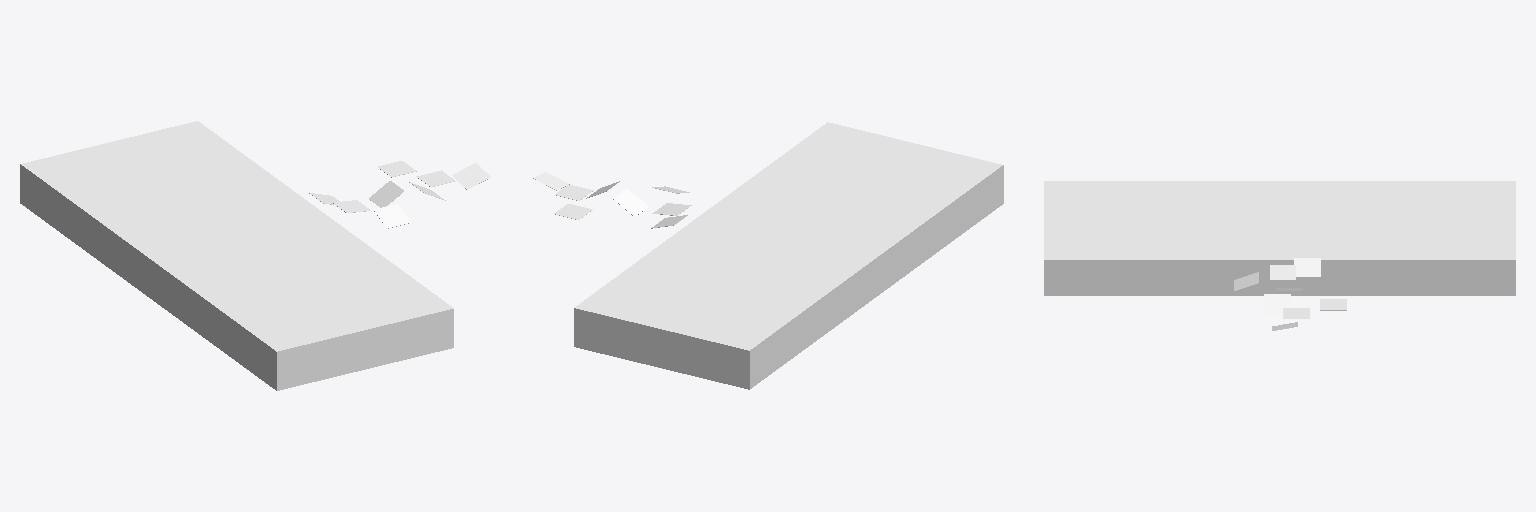
The robot description file, URDF, robot "plane_hole":
<robot name="plane_hole">
  <link name="base_link">
    <visual>
      <origin xyz="0 0 0" rpy="0 0 0" />
      <geometry>
        <mesh filename="package://hpp-rbprm-corba/meshes/plane_hole.stl"/>
      </geometry>
      <material name="white">
        <color rgba="1 1 1 1"/>
      </material>
    </visual>
    <collision>
      <origin xyz="0 0 0" rpy="0 0 0" />
      <geometry>
        <mesh filename="package://hpp-rbprm-corba/meshes/plane_hole.stl"/>
      </geometry>
    </collision>
  </link>
</robot>

--- Render facts (derived) ---
3 views of the same robot in one strip: view 1: azimuth 30°, elevation 25°; view 2: azimuth 150°, elevation 25°; view 3: azimuth 270°, elevation 25° (orthographic).
Model plane_hole with 1 links and 0 joints (none), rooted at base_link, posed all joints at 0.
Links seen in each view (by area): view 1: base_link; view 2: base_link; view 3: base_link.
Boxes of the visible links, x1,y1,x2,y2 form: base_link: [20, 121, 490, 390]; base_link: [533, 122, 1003, 389]; base_link: [1044, 181, 1515, 330].
Size in the robot's own frame: 4.49 by 5.89 by 0.5852 metres.
Meshes: 1 distinct files referenced, 1 mesh visuals loaded (1 binary STL).